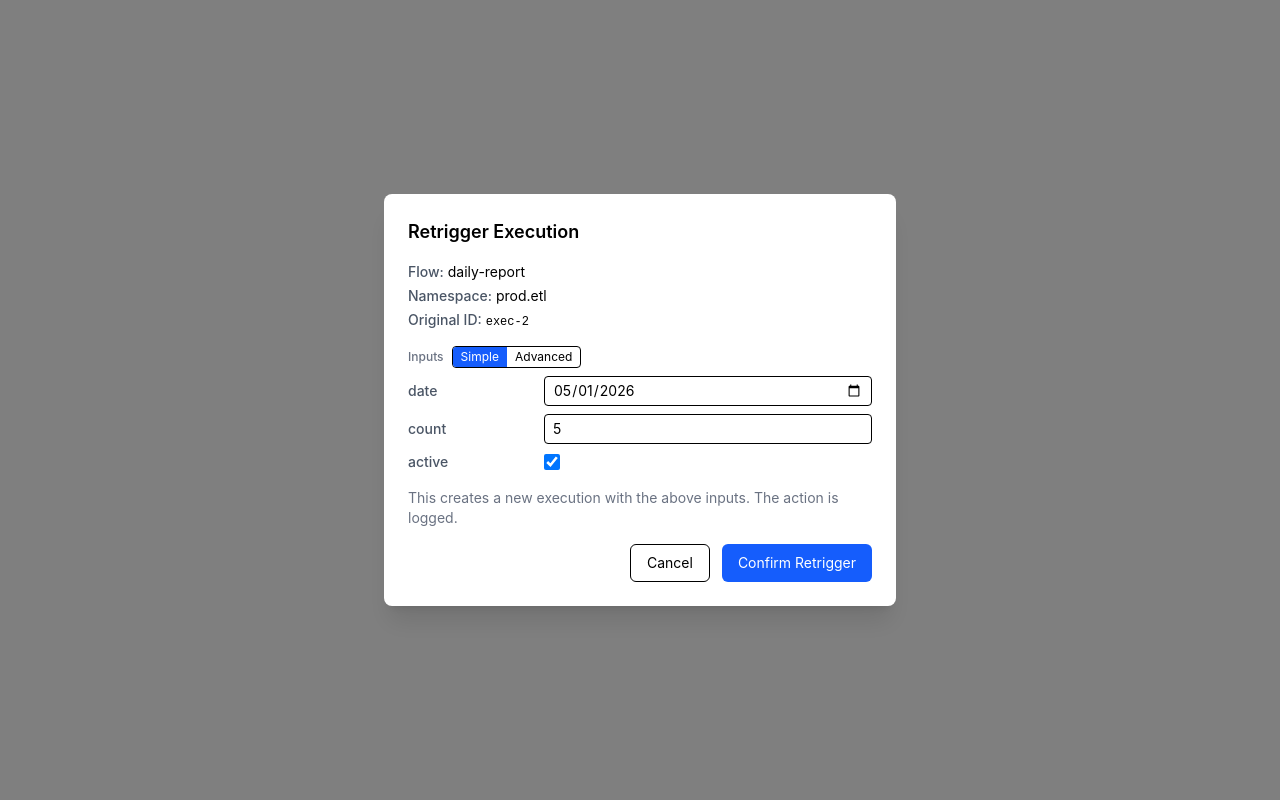
it: RetriggerModal › advanced mode shows textarea containing JSON
Click the button "Advanced" at point(544, 357), box 507,347 -> 580,367
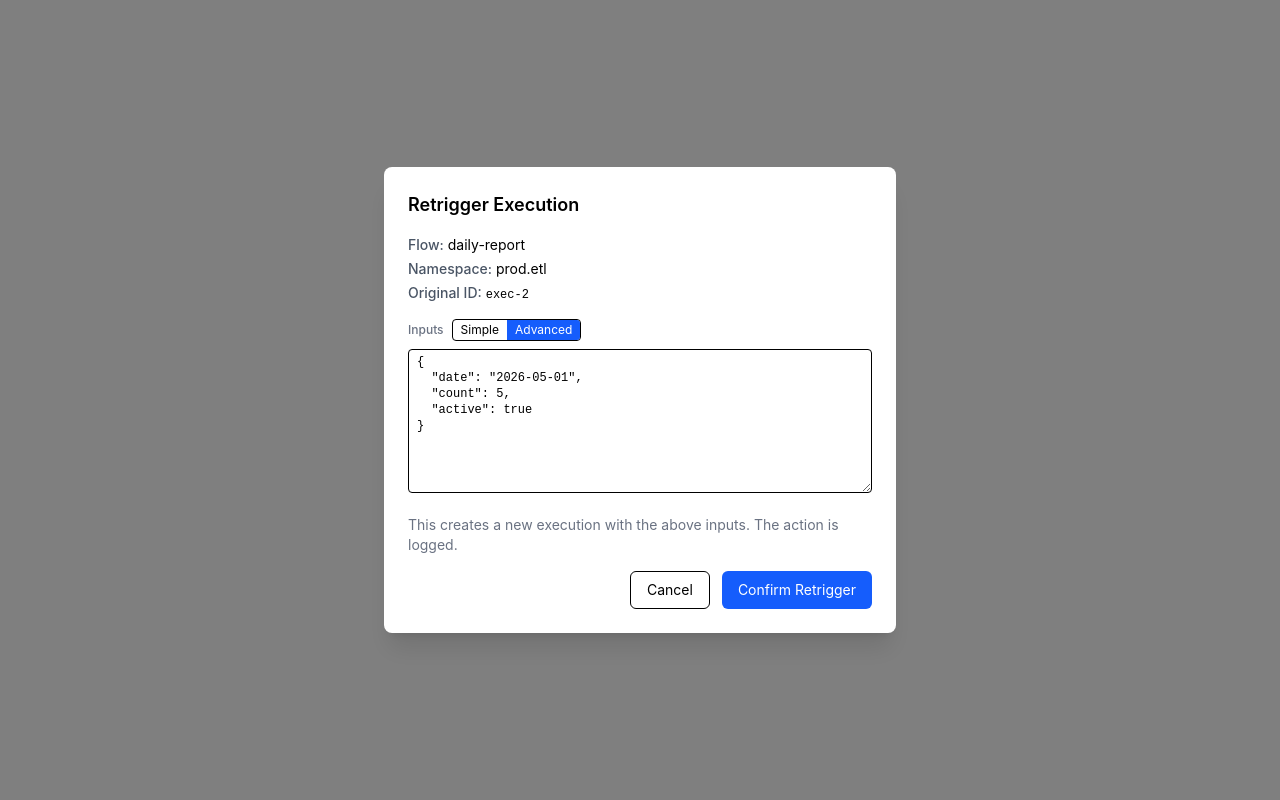
Expected: the text box is shown, 408,349 -> 872,493
